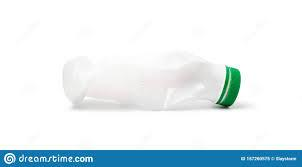plastic: (68, 49, 238, 110)
